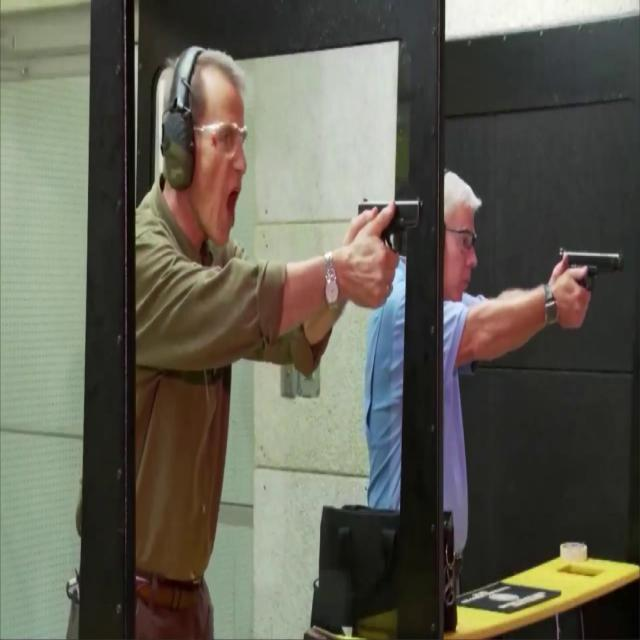weapon: (357, 199, 422, 253), (556, 247, 626, 294)
